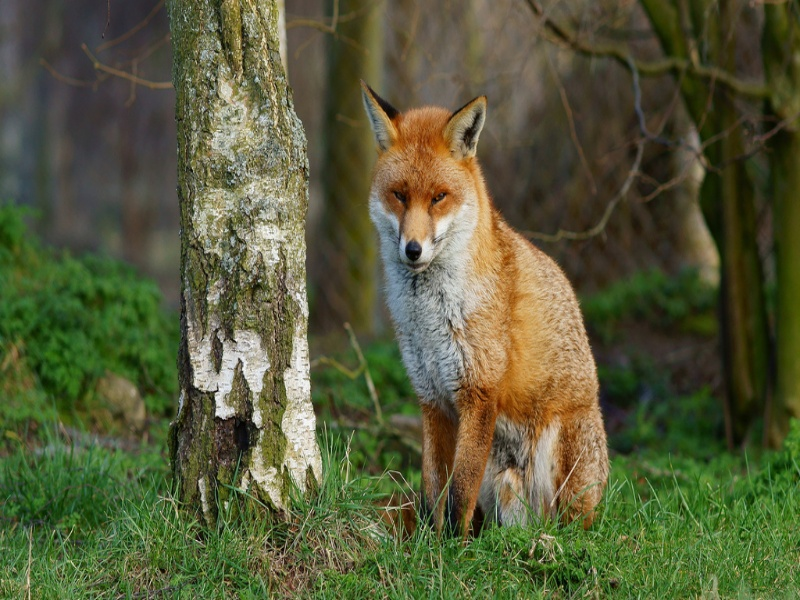fox: (347, 78, 619, 553)
